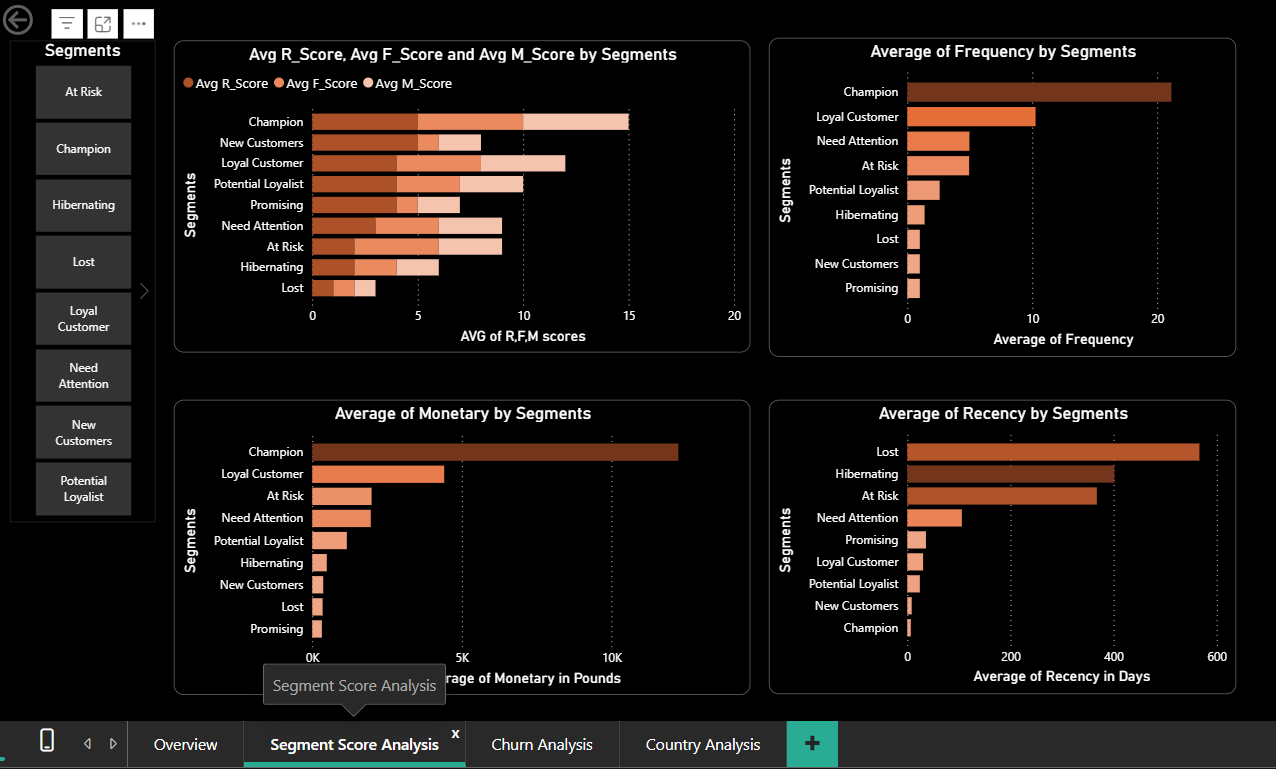

The page's visual inventory and layout, read from the dashboard file:
{"tool":"powerbi","page":{"name":"Segment Score Analysis","canvas":[1280,720],"ordinal":1},"visuals":[{"type":"actionButton","box":[0,0,100,40],"z":0},{"type":"barChart","fields":{"Category":["Segmented Table.Segments"],"Y":["Avg(Segmented Table.Recency)"]},"box":[770,399.3,467,294],"z":1000},{"type":"barChart","fields":{"Category":["Segmented Table.Segments"],"Y":["Avg(Segmented Table.Monetary)"]},"box":[175.6,399.3,576.2,295.3],"z":2000},{"type":"barChart","fields":{"Category":["Segmented Table.Segments"],"Y":["Avg(Segmented Table.Frequency)"]},"box":[770,37.7,467,318.7],"z":3000},{"type":"barChart","title":"Avg R_Score, Avg F_Score and Avg M_Score by Segments","fields":{"Category":["Segment Analysis.Segments"],"Y":["Sum(Segment Analysis.Avg R_Score)","Sum(Segment Analysis.Avg F_Score)","Sum(Segment Analysis.Avg M_Score)"]},"box":[175.6,40.3,576.2,312.2],"z":4000},{"type":"slicer","title":"Segments","fields":{"Values":["Segment Analysis.Segments"]},"box":[11.7,40.3,145.7,481.3],"z":5000}]}

Visuals, with their boxes on the page's 1280x720 design canvas (x1, y1, x2, y2). These are canvas units, not pixel positions in the 1276x769 screenshot, which may show the page scaled, cropped or inside an application window:
actionButton: {"left": 0, "top": 0, "right": 100, "bottom": 40}
barChart - Segmented Table.Segments x Avg(Segmented Table.Recency): {"left": 770, "top": 399, "right": 1237, "bottom": 693}
barChart - Segmented Table.Segments x Avg(Segmented Table.Monetary): {"left": 176, "top": 399, "right": 752, "bottom": 695}
barChart - Segmented Table.Segments x Avg(Segmented Table.Frequency): {"left": 770, "top": 38, "right": 1237, "bottom": 356}
"Avg R_Score, Avg F_Score and Avg M_Score by Segments" barChart: {"left": 176, "top": 40, "right": 752, "bottom": 352}
"Segments" slicer: {"left": 12, "top": 40, "right": 157, "bottom": 522}
